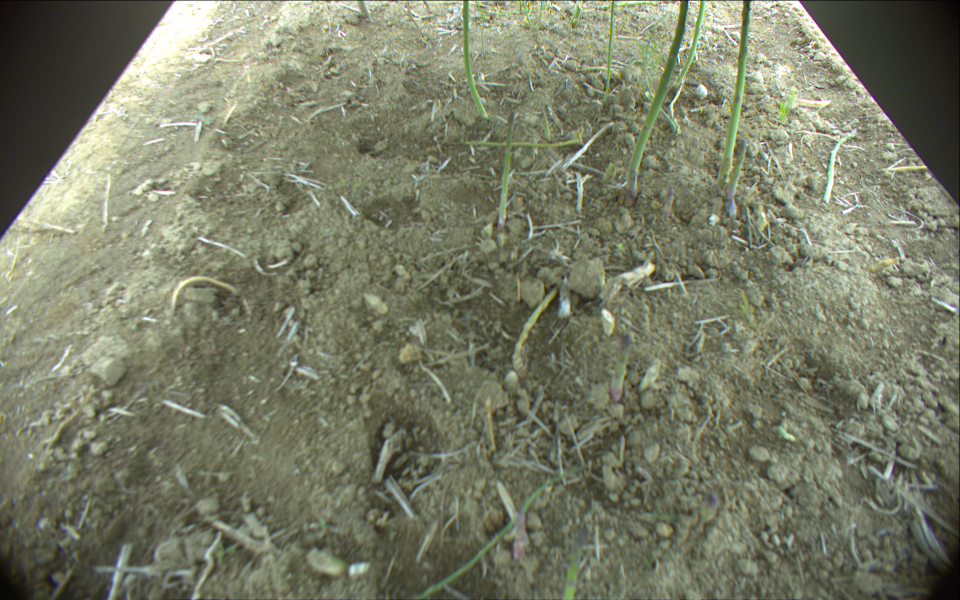aspa: (627, 1, 689, 197), (721, 1, 752, 179), (458, 1, 486, 118), (675, 1, 704, 94), (725, 139, 750, 221), (500, 111, 513, 230), (603, 1, 615, 99), (457, 137, 582, 146), (660, 188, 677, 221), (357, 1, 371, 20)
